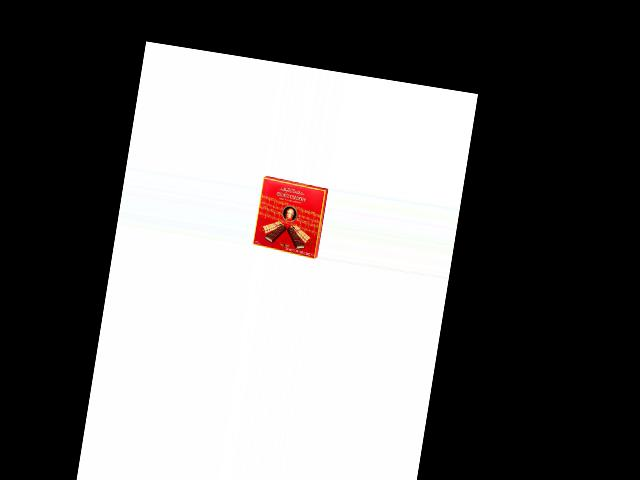chocolate: (250, 176, 329, 261)
